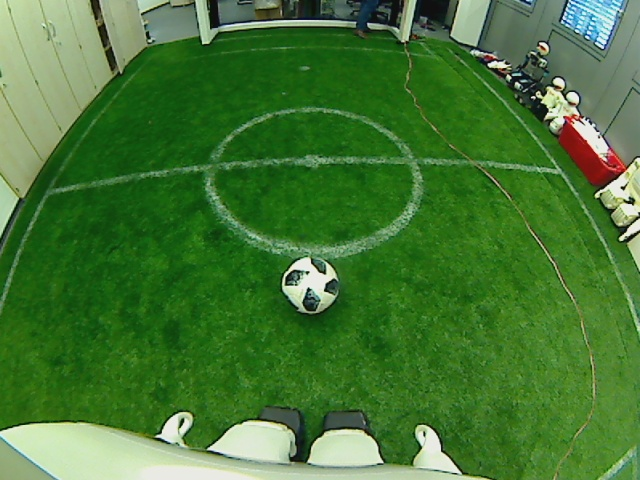ball: (278, 255, 343, 316)
